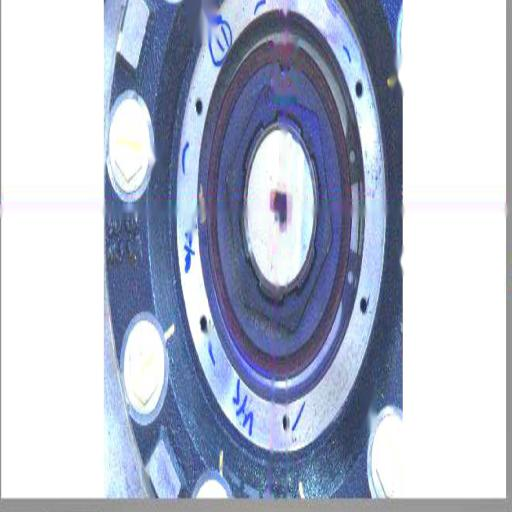center: (274, 198, 292, 230)
notch: (276, 60, 296, 90)
